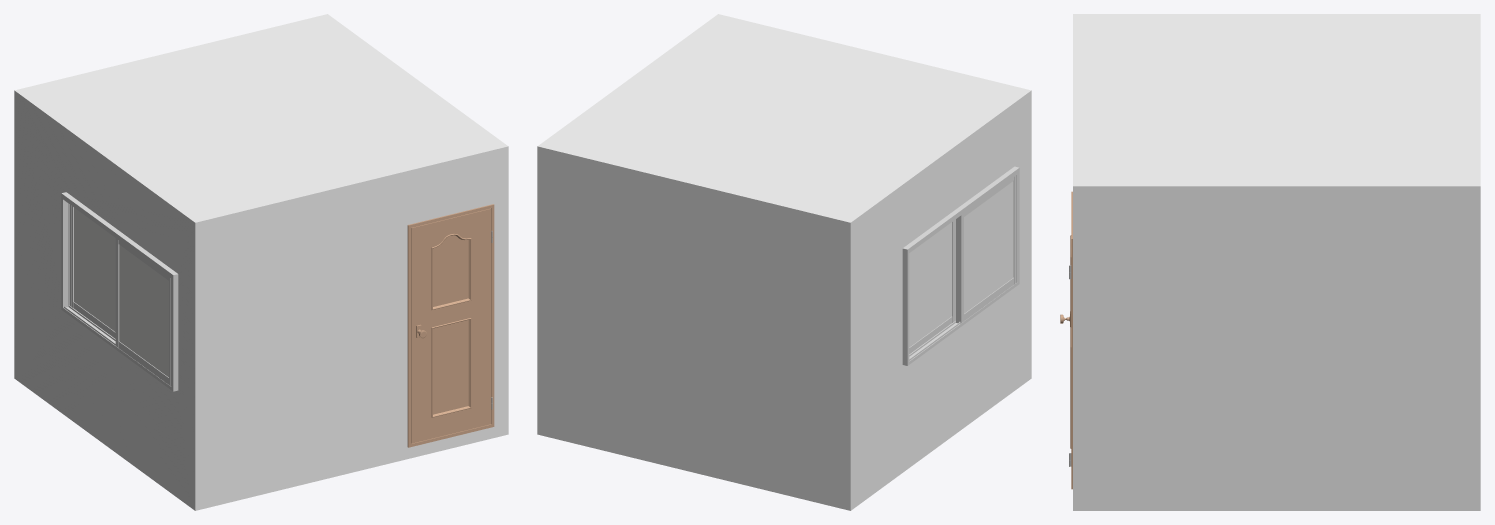
3 renders of one model, left to right at view 1: azimuth 30°, elevation 25°; view 2: azimuth 150°, elevation 25°; view 3: azimuth 270°, elevation 25°, orthographic. The views are drawn at different scales.
Parts seen in each view (by area): view 1: 南壁, 天井, 西壁, 扉, 左, 右, 北壁, 東壁; view 2: 北壁, 天井, 西壁, 左, 右, 南壁, 東壁; view 3: 東壁, 天井, 南壁, 北壁, 西壁, 扉.
Boxes of the visible parts, x1=… form: 南壁: x1=192, y1=144, x2=508, y2=510; 天井: x1=24, y1=18, x2=498, y2=218; 西壁: x1=17, y1=91, x2=197, y2=508; 扉: x1=411, y1=208, x2=492, y2=443; 左: x1=115, y1=238, x2=171, y2=386; 右: x1=69, y1=204, x2=115, y2=338; 北壁: x1=14, y1=14, x2=330, y2=380; 東壁: x1=325, y1=16, x2=504, y2=145; 北壁: x1=537, y1=144, x2=853, y2=510; 天井: x1=547, y1=18, x2=1021, y2=218; 西壁: x1=848, y1=91, x2=1028, y2=508; 左: x1=956, y1=174, x2=1017, y2=323; 右: x1=909, y1=219, x2=955, y2=353; 南壁: x1=715, y1=14, x2=1031, y2=380; 東壁: x1=541, y1=16, x2=720, y2=145; 東壁: x1=1080, y1=183, x2=1473, y2=510; 天井: x1=1080, y1=17, x2=1473, y2=182; 南壁: x1=1069, y1=14, x2=1080, y2=510; 北壁: x1=1473, y1=14, x2=1480, y2=510; 西壁: x1=1080, y1=14, x2=1473, y2=16; 扉: x1=1060, y1=235, x2=1071, y2=460.
Bounding box in the file's own units: 2.77 × 2.4 × 2.82.
